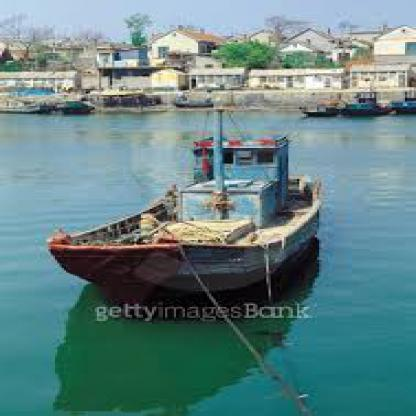fish-b: (38, 106, 335, 304)
